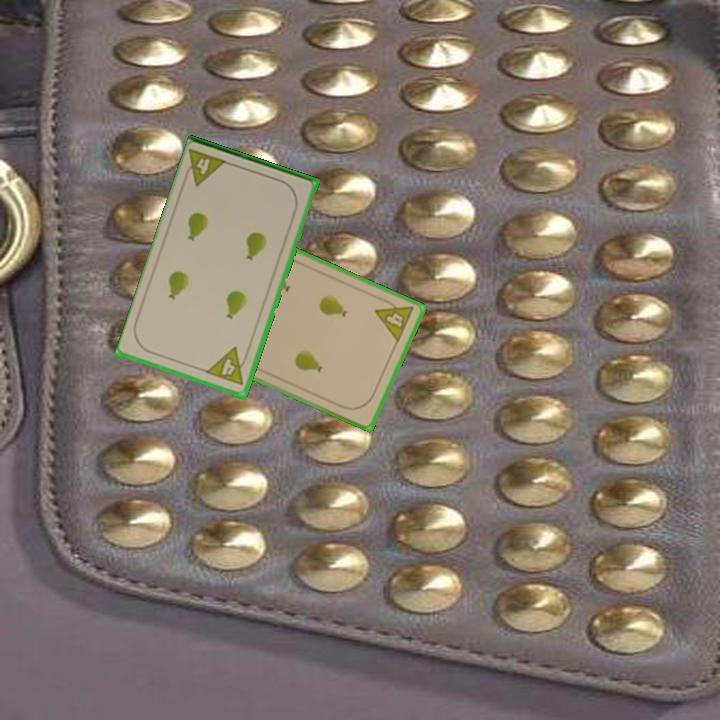4p: (371, 294, 417, 345), (179, 145, 231, 190), (203, 344, 252, 388)
